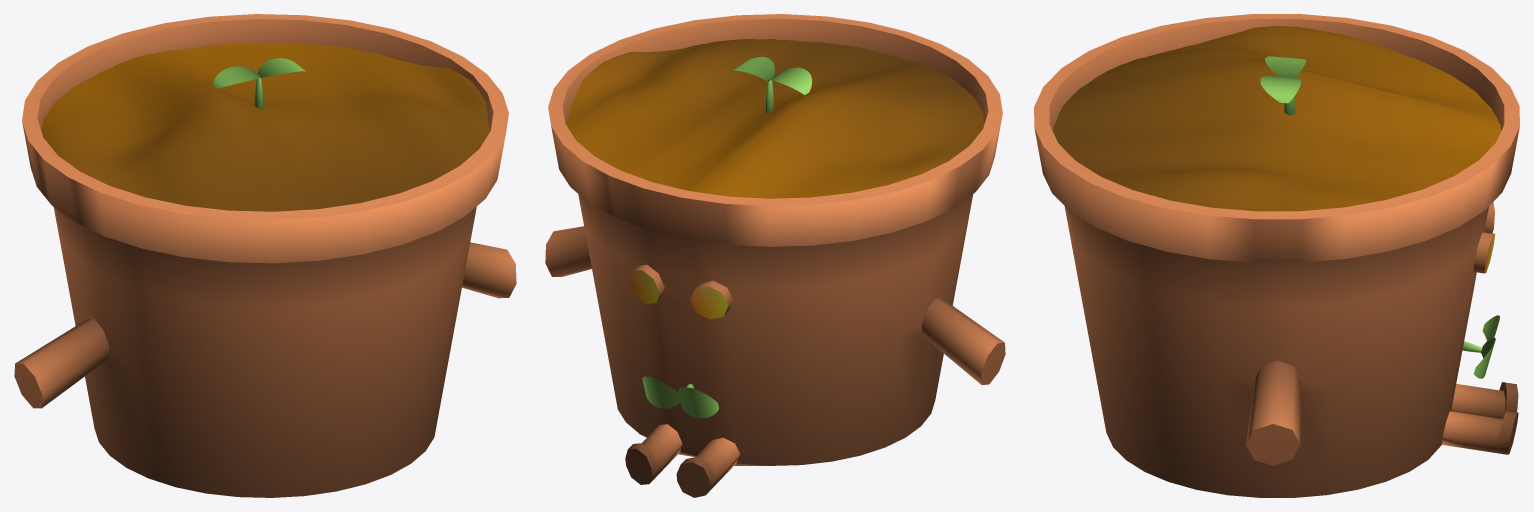
The model's file is Pot3.fbx.
3 views of the same model, side by side, from view 1: azimuth 30°, elevation 25°; view 2: azimuth 150°, elevation 25°; view 3: azimuth 270°, elevation 25° (orthographic). The views are drawn at different scales.
Parts seen in each view (by area): view 1: Pot, Dirt, Sapling; view 2: Pot, Dirt, Bow, Sapling; view 3: Pot, Dirt, Sapling, Bow.
Boxes of the visible parts, x1,y1,x2,y2 form: Pot: (14, 14, 516, 497); Dirt: (41, 42, 489, 211); Sapling: (213, 58, 305, 109); Pot: (545, 14, 1005, 497); Dirt: (566, 39, 984, 198); Bow: (642, 376, 718, 418); Sapling: (731, 56, 812, 112); Pot: (1034, 14, 1519, 497); Dirt: (1053, 26, 1500, 211); Sapling: (1260, 56, 1305, 115); Bow: (1462, 315, 1499, 378).
Size of the model in its own units: 323 by 238 by 283.
